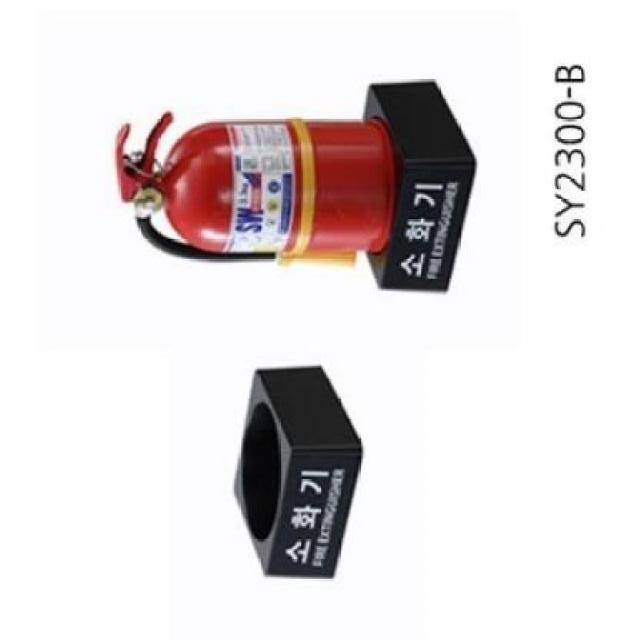fire extinguisher: (114, 112, 391, 270)
